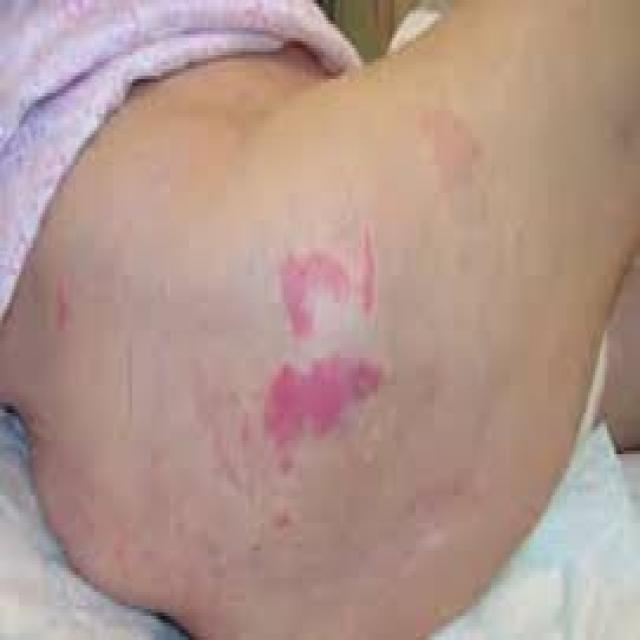stage-1: (268, 361, 380, 448), (281, 260, 348, 336)
